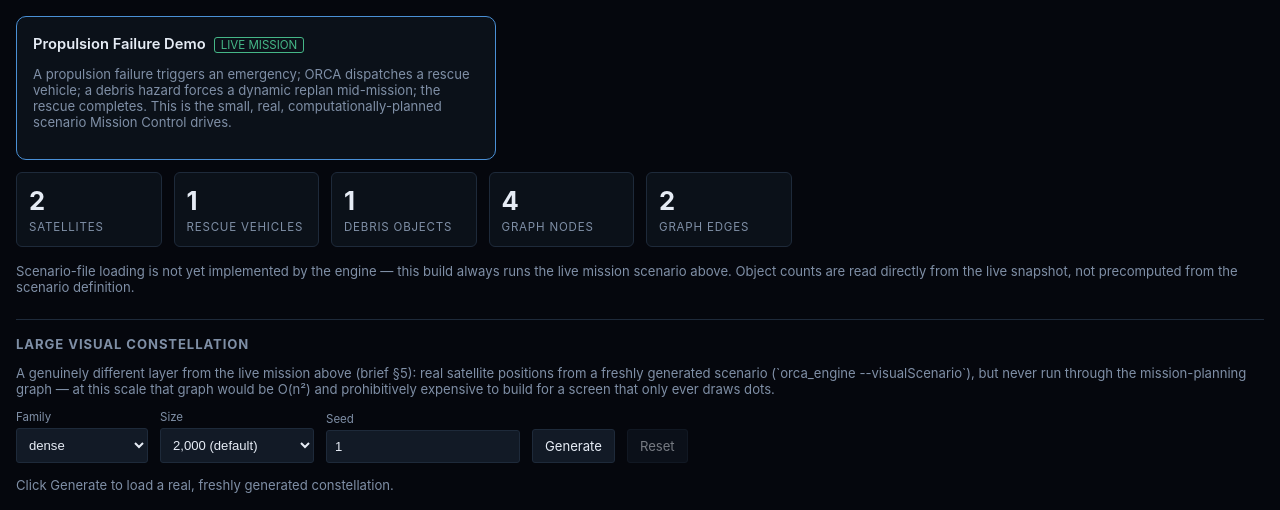
Test: ScenarioPage › shows a real error message when generation fails, not a silent no-op
Click the button "Generate": (573, 446) [532, 429, 615, 463]
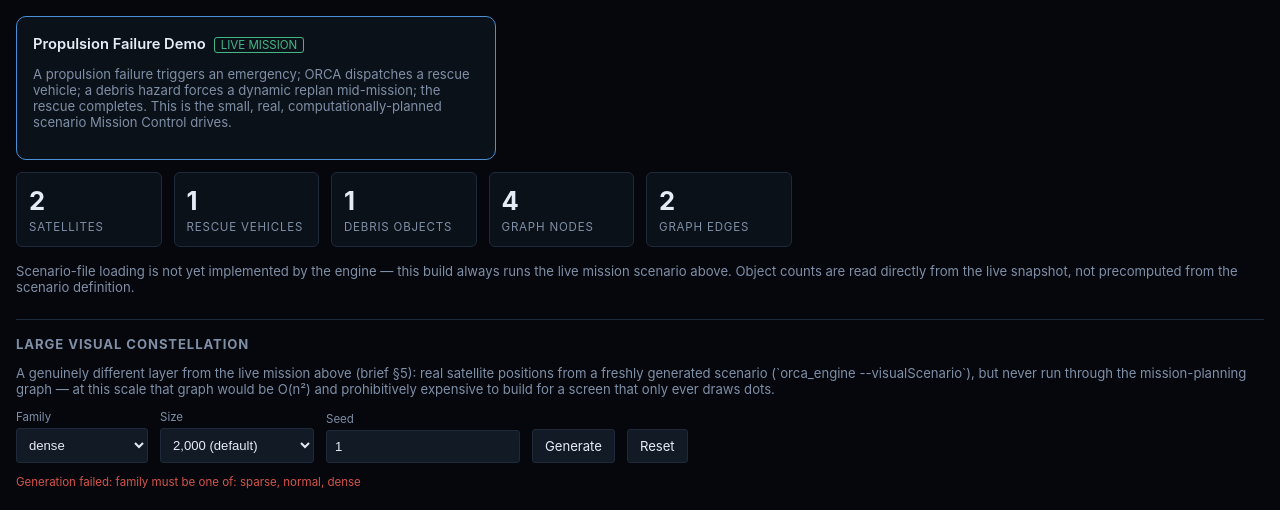
Now the text "Generation failed" is shown, box [16, 475, 116, 489]
